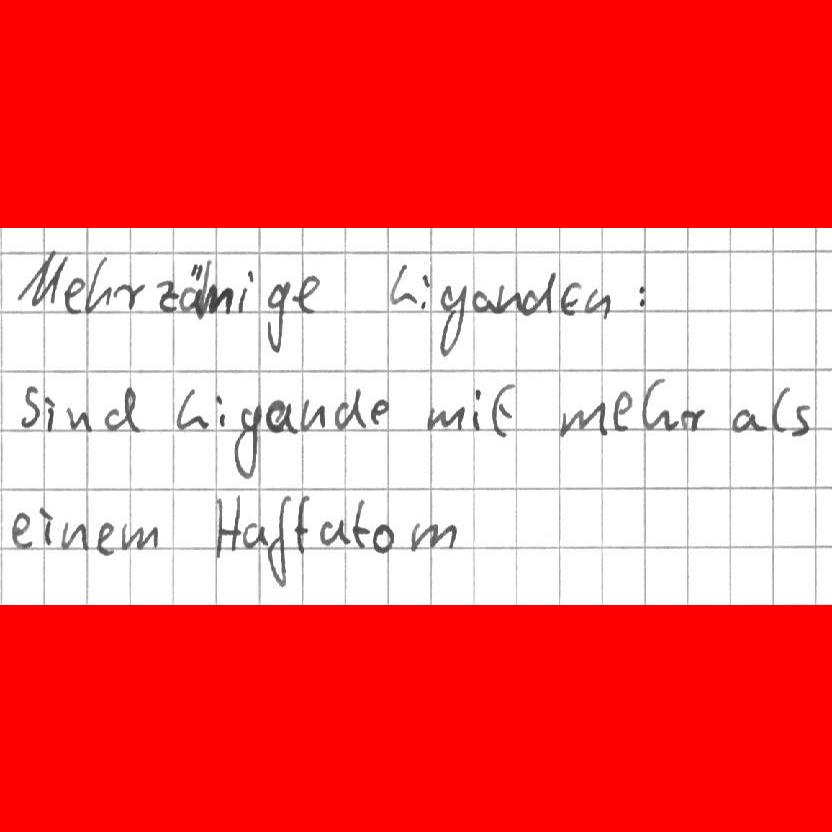Char: (15, 251, 64, 309), (236, 401, 267, 479), (264, 496, 290, 589), (437, 282, 467, 353), (262, 278, 291, 351), (639, 378, 677, 432), (559, 401, 609, 438), (102, 387, 142, 433), (211, 493, 240, 556), (408, 518, 458, 553), (518, 271, 555, 317), (176, 258, 203, 319), (173, 384, 206, 433), (85, 256, 112, 314), (490, 383, 515, 438), (266, 397, 299, 436), (388, 262, 416, 307), (335, 387, 363, 431), (428, 403, 466, 433), (121, 521, 156, 553), (114, 279, 146, 312), (770, 384, 791, 434), (293, 494, 311, 551), (299, 395, 326, 433), (295, 274, 321, 313), (206, 282, 233, 318), (351, 497, 370, 548), (63, 275, 86, 315), (731, 406, 763, 434), (10, 510, 32, 550), (371, 521, 397, 554), (94, 519, 117, 556), (584, 287, 613, 316), (319, 517, 346, 548), (612, 387, 631, 431), (558, 281, 581, 317), (21, 384, 39, 430), (677, 405, 704, 434), (59, 520, 86, 549), (495, 281, 518, 314), (38, 505, 56, 547), (64, 405, 89, 435), (238, 269, 254, 315), (242, 519, 263, 553), (156, 279, 176, 312), (42, 393, 57, 433), (368, 397, 389, 425), (471, 387, 484, 431), (792, 406, 811, 436), (418, 274, 432, 312), (471, 290, 492, 314), (216, 392, 228, 427), (634, 281, 648, 308)
